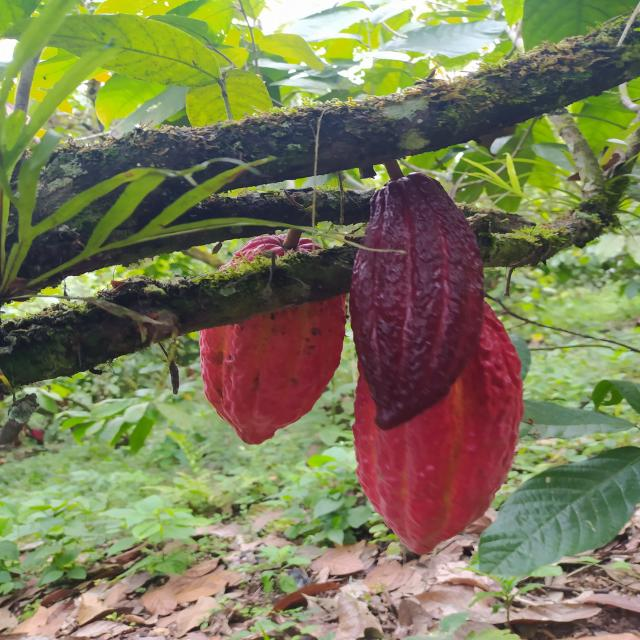Sana: (354, 300, 522, 555), (348, 169, 484, 430), (199, 237, 348, 447)
